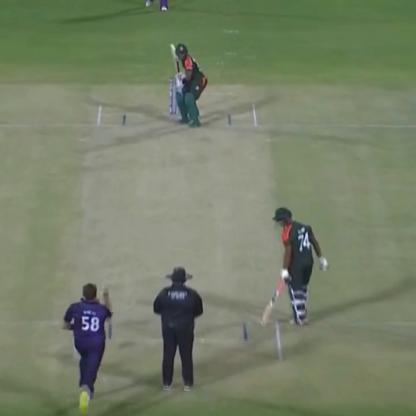bat: (164, 35, 190, 84), (261, 273, 285, 321)
pitch: (65, 94, 287, 360)
